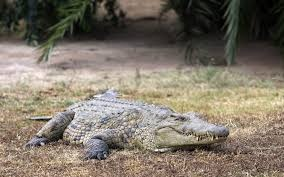crocodile: (22, 84, 233, 163)
